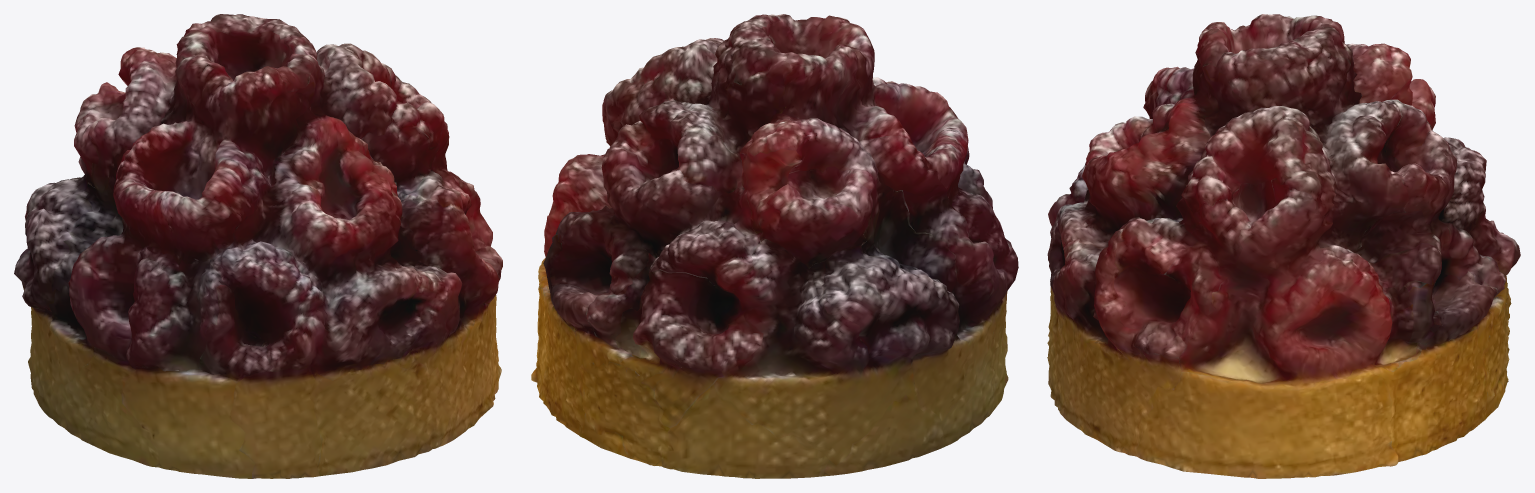
File: compressed_1728496412238_Berry_Topped_Dessert.glb
3 views of the same model, side by side, from view 1: azimuth 30°, elevation 25°; view 2: azimuth 150°, elevation 25°; view 3: azimuth 270°, elevation 25° (orthographic). The views are drawn at different scales.
Parts seen in each view (by area): view 1: Object_2; view 2: Object_2; view 3: Object_2.
Part boxes in pixels (left/top/right/bottom): Object_2: left=14, top=14, right=502, bottom=478; Object_2: left=531, top=14, right=1018, bottom=478; Object_2: left=1047, top=14, right=1520, bottom=478.
Bounding box in the file's own units: 0.0832 × 0.0674 × 0.0838.
Materials: 1 (1 with a texture image).
